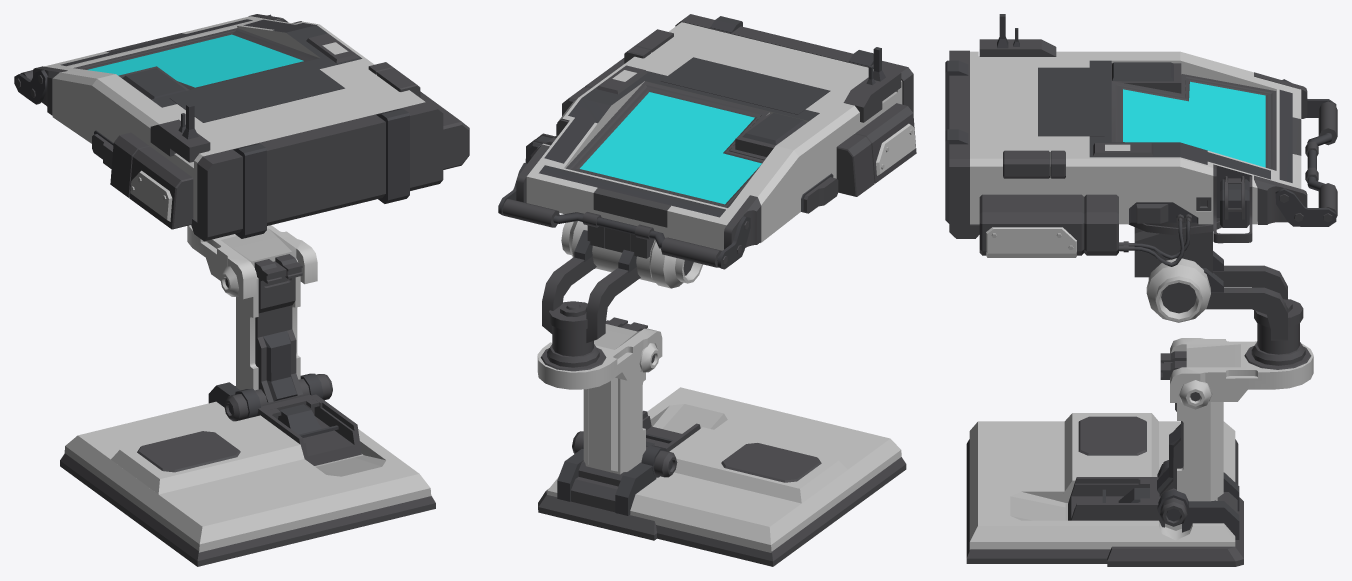
Rendered from SM_Console_Fellming.fbx.
3 views of the same model, side by side, from view 1: azimuth 30°, elevation 25°; view 2: azimuth 150°, elevation 25°; view 3: azimuth 270°, elevation 25° (orthographic). The views are drawn at different scales.
Visible parts, largest first — view 1: SM_Console; view 2: SM_Console; view 3: SM_Console.
Boxes of the visible parts, x1,y1,x2,y2 form: SM_Console: (14,14,469,566); SM_Console: (498,14,916,566); SM_Console: (945,14,1337,566).
Bounding box in the file's own units: 71.56 × 100 × 81.12.
